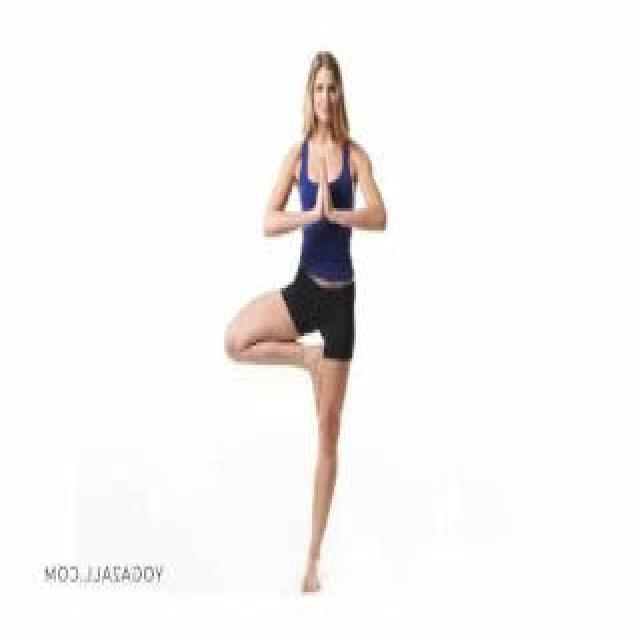yoga-pose tree: (225, 50, 388, 596)
